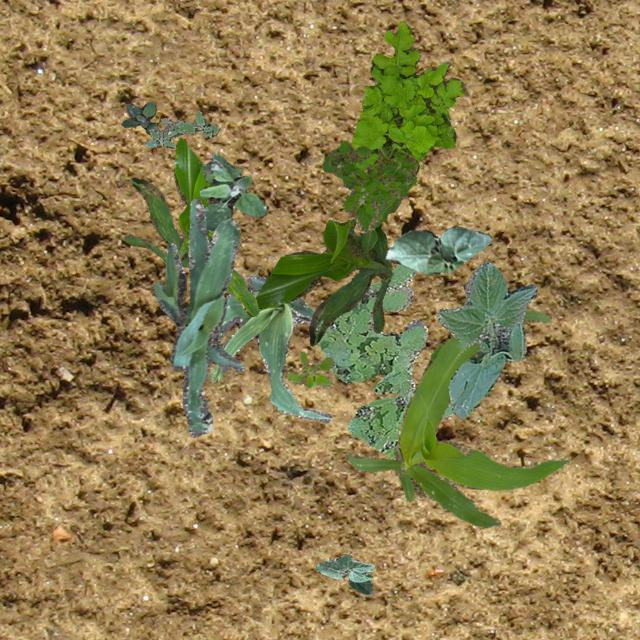crop: (344, 309, 570, 526), (253, 162, 418, 346), (122, 137, 258, 316), (152, 196, 244, 436), (210, 274, 332, 422), (436, 260, 536, 418), (384, 226, 492, 274), (314, 554, 374, 594)
weed: (317, 264, 453, 458), (350, 20, 464, 170), (322, 140, 416, 232), (198, 152, 266, 234), (144, 110, 218, 146), (286, 350, 332, 388), (120, 100, 158, 134)
